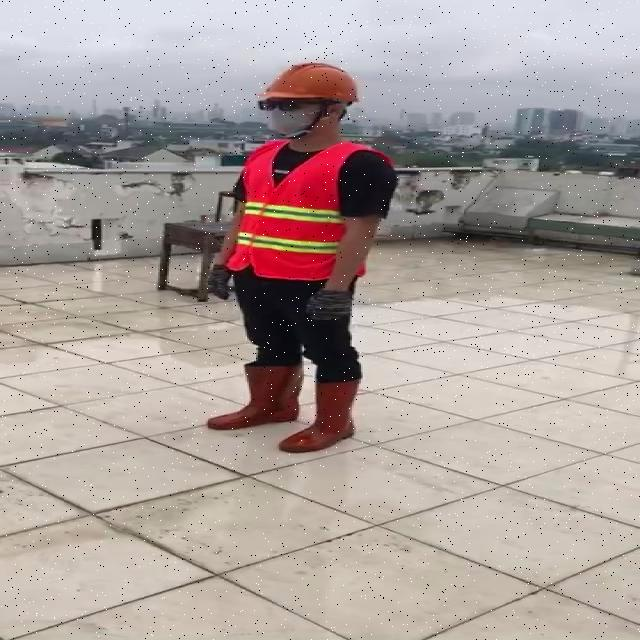Hard_hat: (250, 58, 366, 113)
Person: (197, 48, 404, 593)
Vest: (238, 137, 350, 282)
